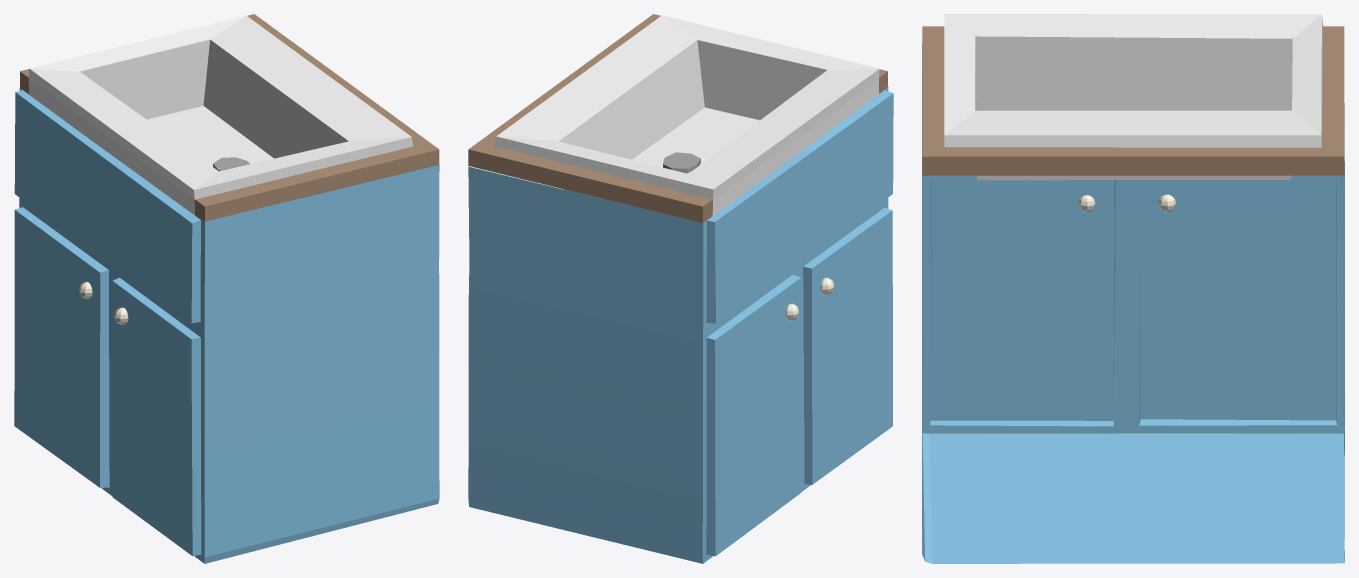
The model's file is Kitchen_2_Cabinet_231109.glb.
3 renders of one model, left to right at view 1: azimuth 30°, elevation 25°; view 2: azimuth 150°, elevation 25°; view 3: azimuth 270°, elevation 25°, orthographic. The views are drawn at different scales.
Parts seen in each view (by area): view 1: Kitchen_2_Cabinet; view 2: Kitchen_2_Cabinet; view 3: Kitchen_2_Cabinet.
Boxes of the visible parts, left/top/right/bottom form: Kitchen_2_Cabinet: left=14, top=14, right=439, bottom=563; Kitchen_2_Cabinet: left=468, top=14, right=893, bottom=563; Kitchen_2_Cabinet: left=922, top=14, right=1344, bottom=563.
Size of the model in its own units: 0.9485 by 1.32 by 1.21.
Materials: 1 (1 with a texture image).
